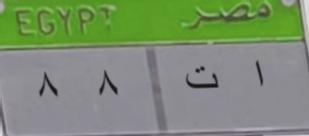8: (29, 67, 67, 109), (87, 63, 125, 103)
alif: (246, 55, 268, 93)
taa: (177, 56, 231, 96)
